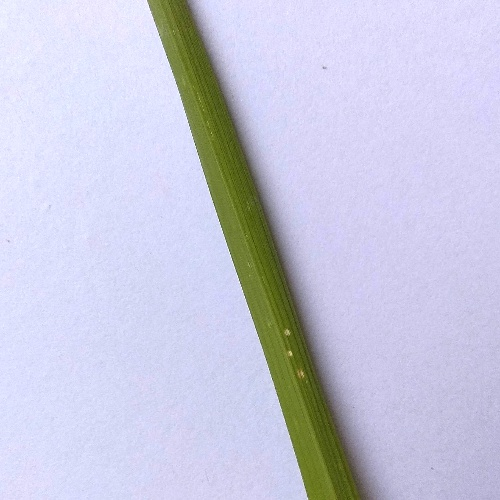Busuk Leher: (278, 324, 307, 385)
